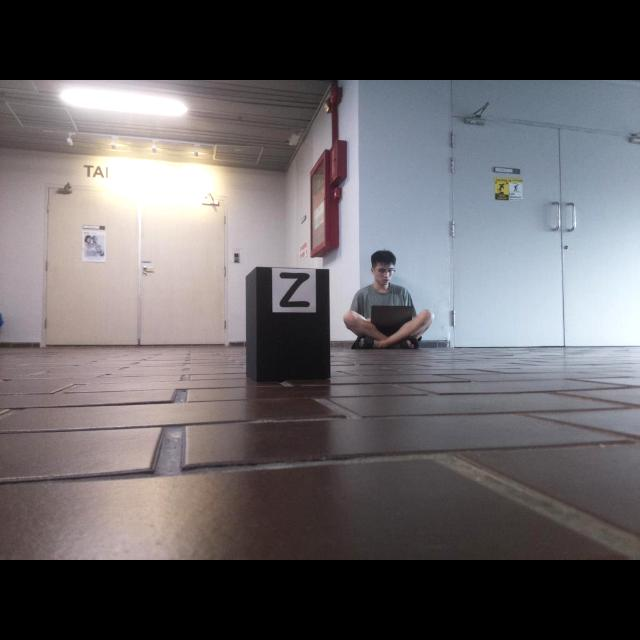Z: (280, 273, 310, 307)
